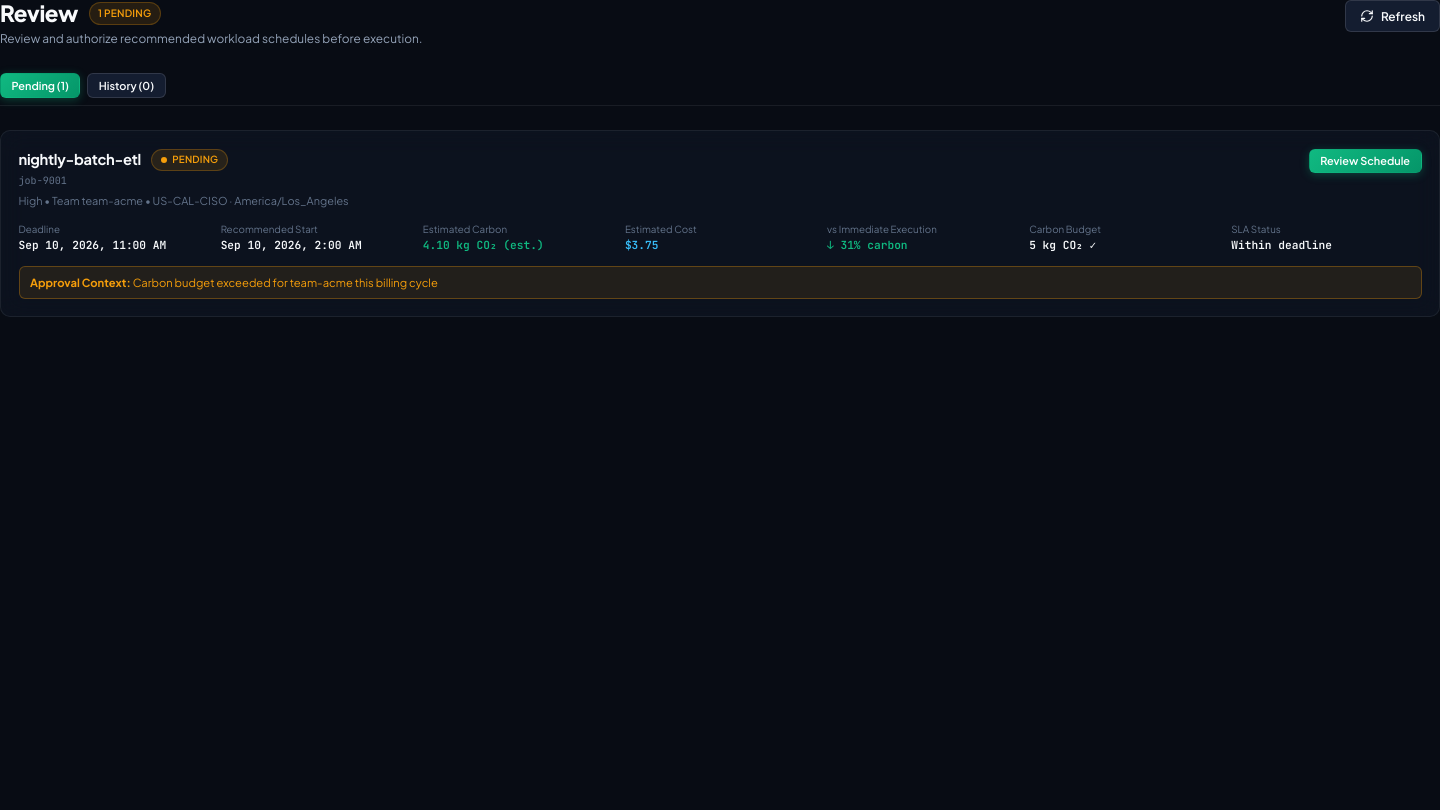
Scenario: ApprovalsPage › review modal › opens on Review Schedule and shows the real recommendation summary
The width and height of the screenshot is (1440, 810).
Click the button "Review Schedule" at (1365, 161), box [1309,148,1422,173]
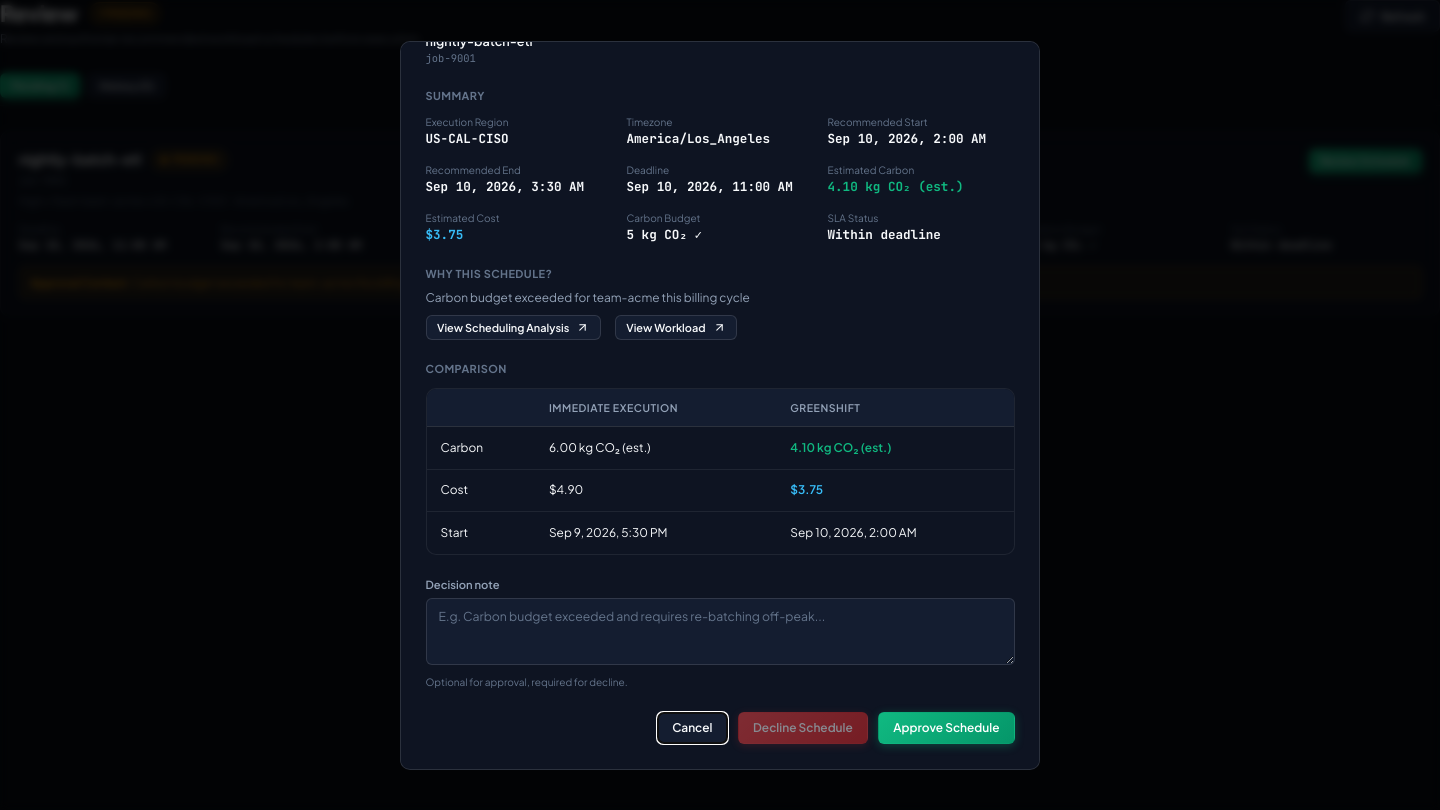
Check: the dialog is shown
Check: the heading "Summary" is shown, box [426,89,485,102]
Check: the text "Execution Region" is shown, box [426,116,508,128]
